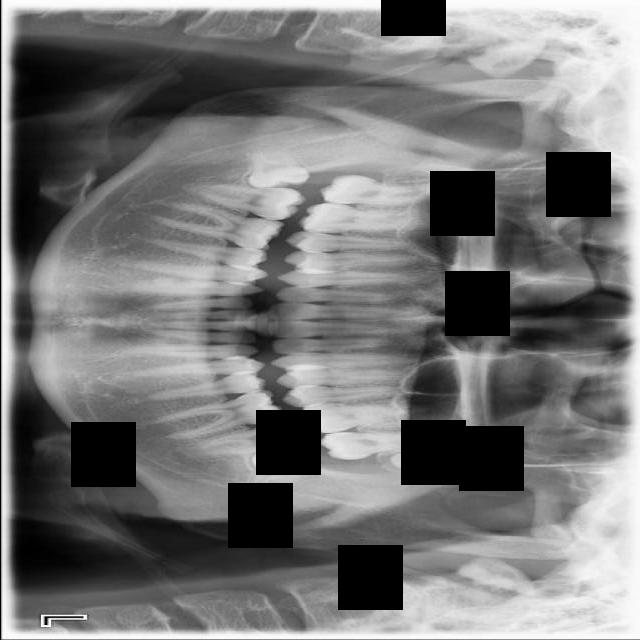73: (69, 618, 79, 622)
BioHorizons Implant: (318, 432, 437, 460)
BioLife Implant: (389, 452, 421, 469)
Biomet 3i Implant: (244, 443, 312, 503)
Blue Sky Bio Implant: (185, 420, 306, 460)
Caries: (318, 174, 443, 207)
Implant: (191, 184, 304, 221)
Keystone Dental Implant: (246, 150, 308, 188)
